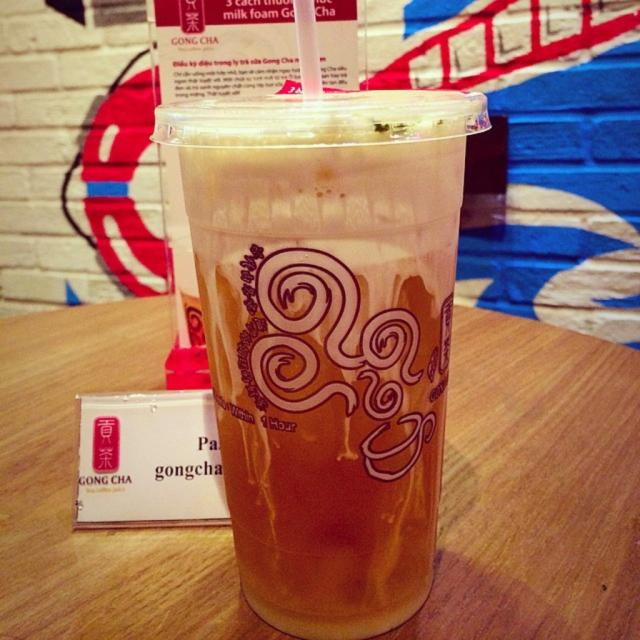Coffee: (167, 103, 469, 640)
